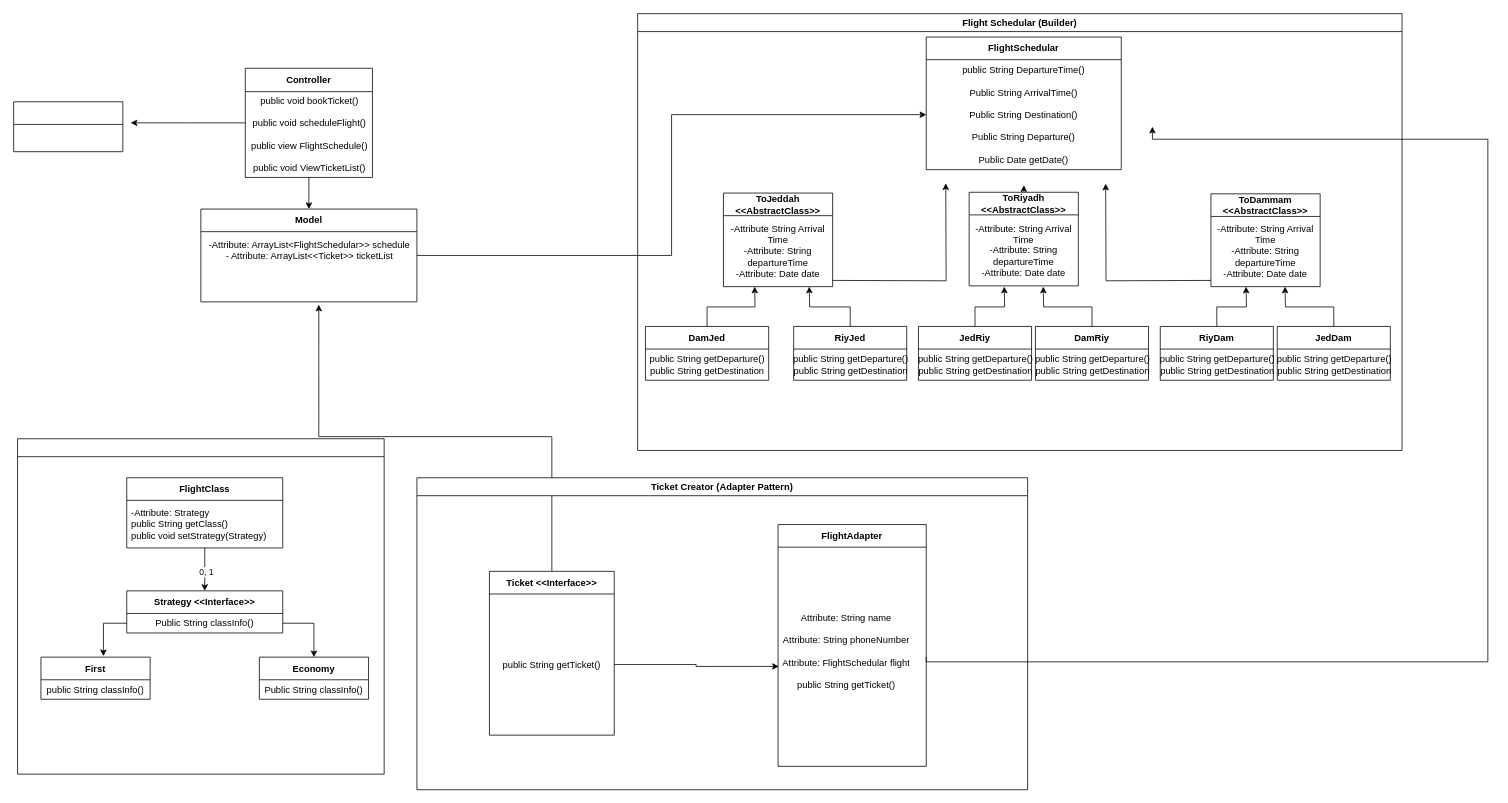
This 1508x803 diagram has some shape labels left out. Each missing label, with the centre of its shape:
"Flight Class Choosing (Strategy)" goes at (x=200, y=606).
"View" goes at (x=68, y=126).
